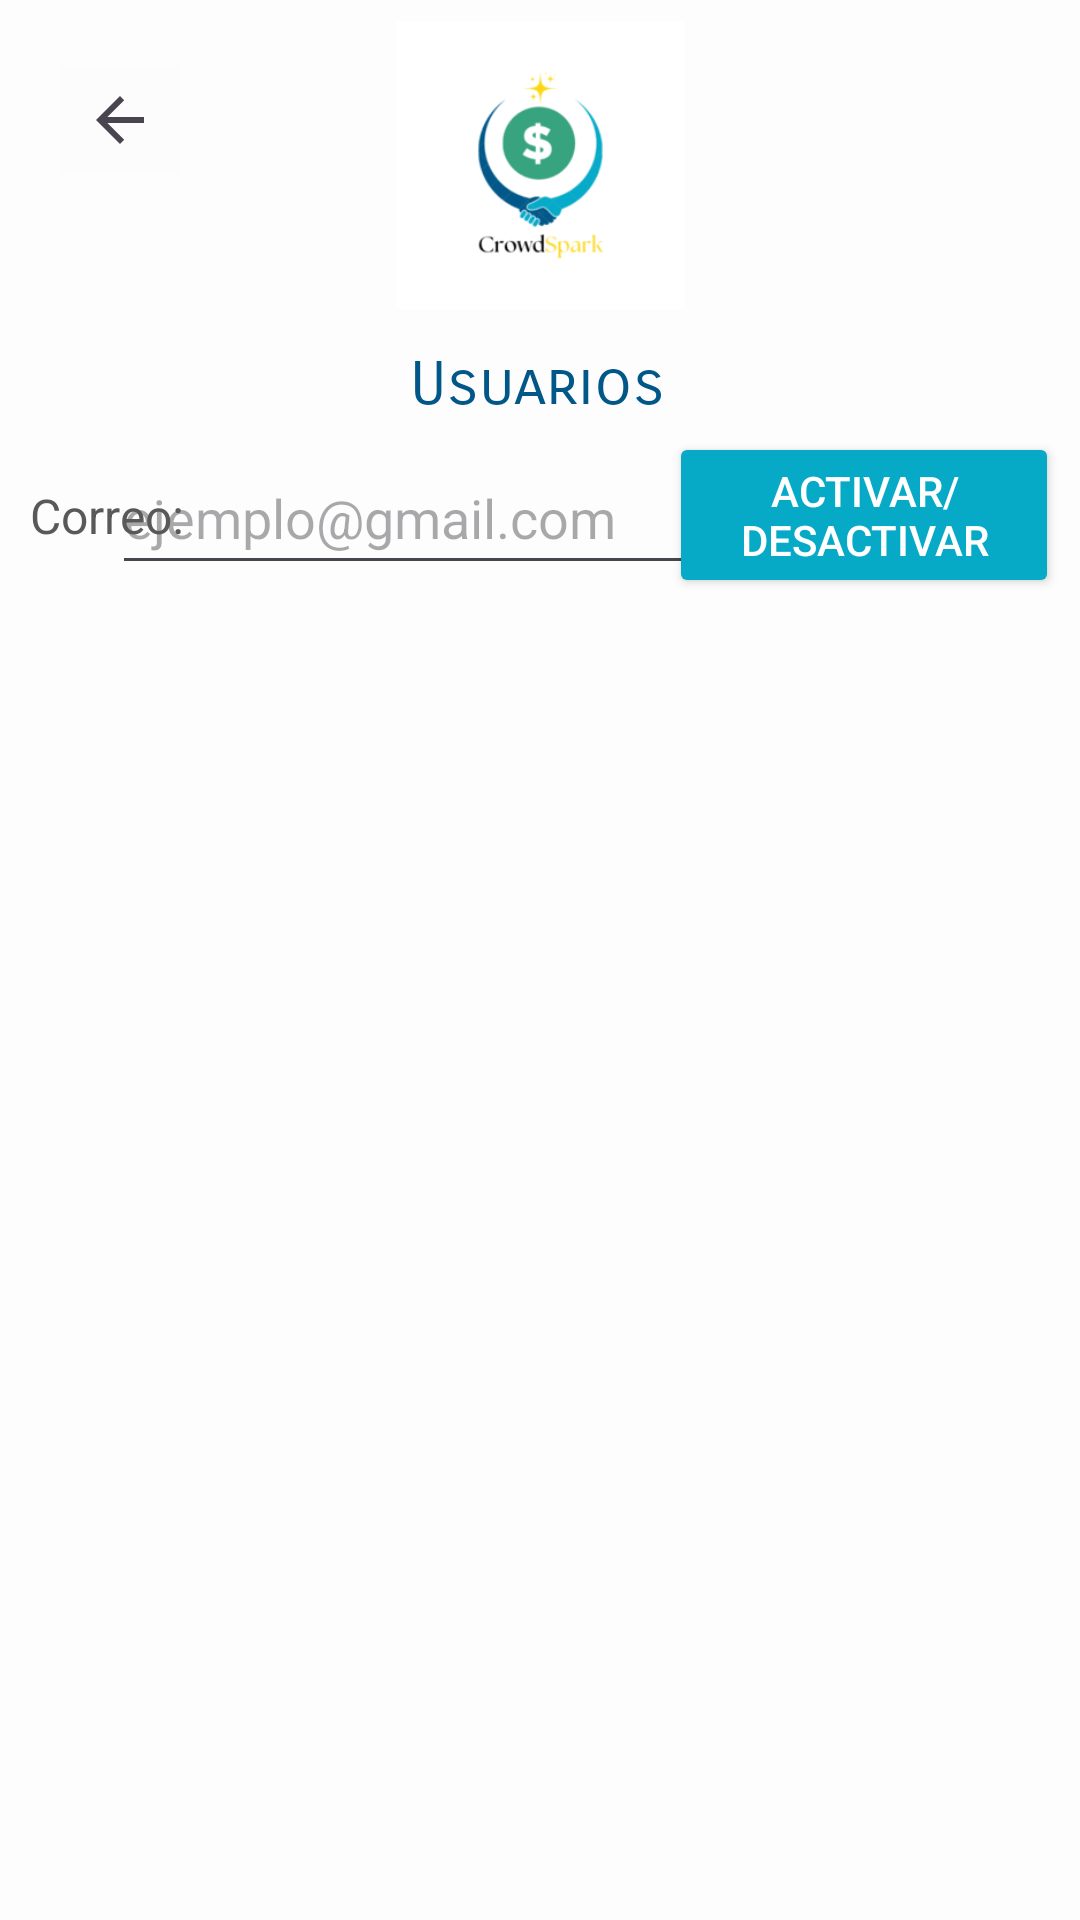

Screen size 1080*1920. Icon name, then its center in pixels as (x=x, y=y):
Go back: (x=120, y=120)
